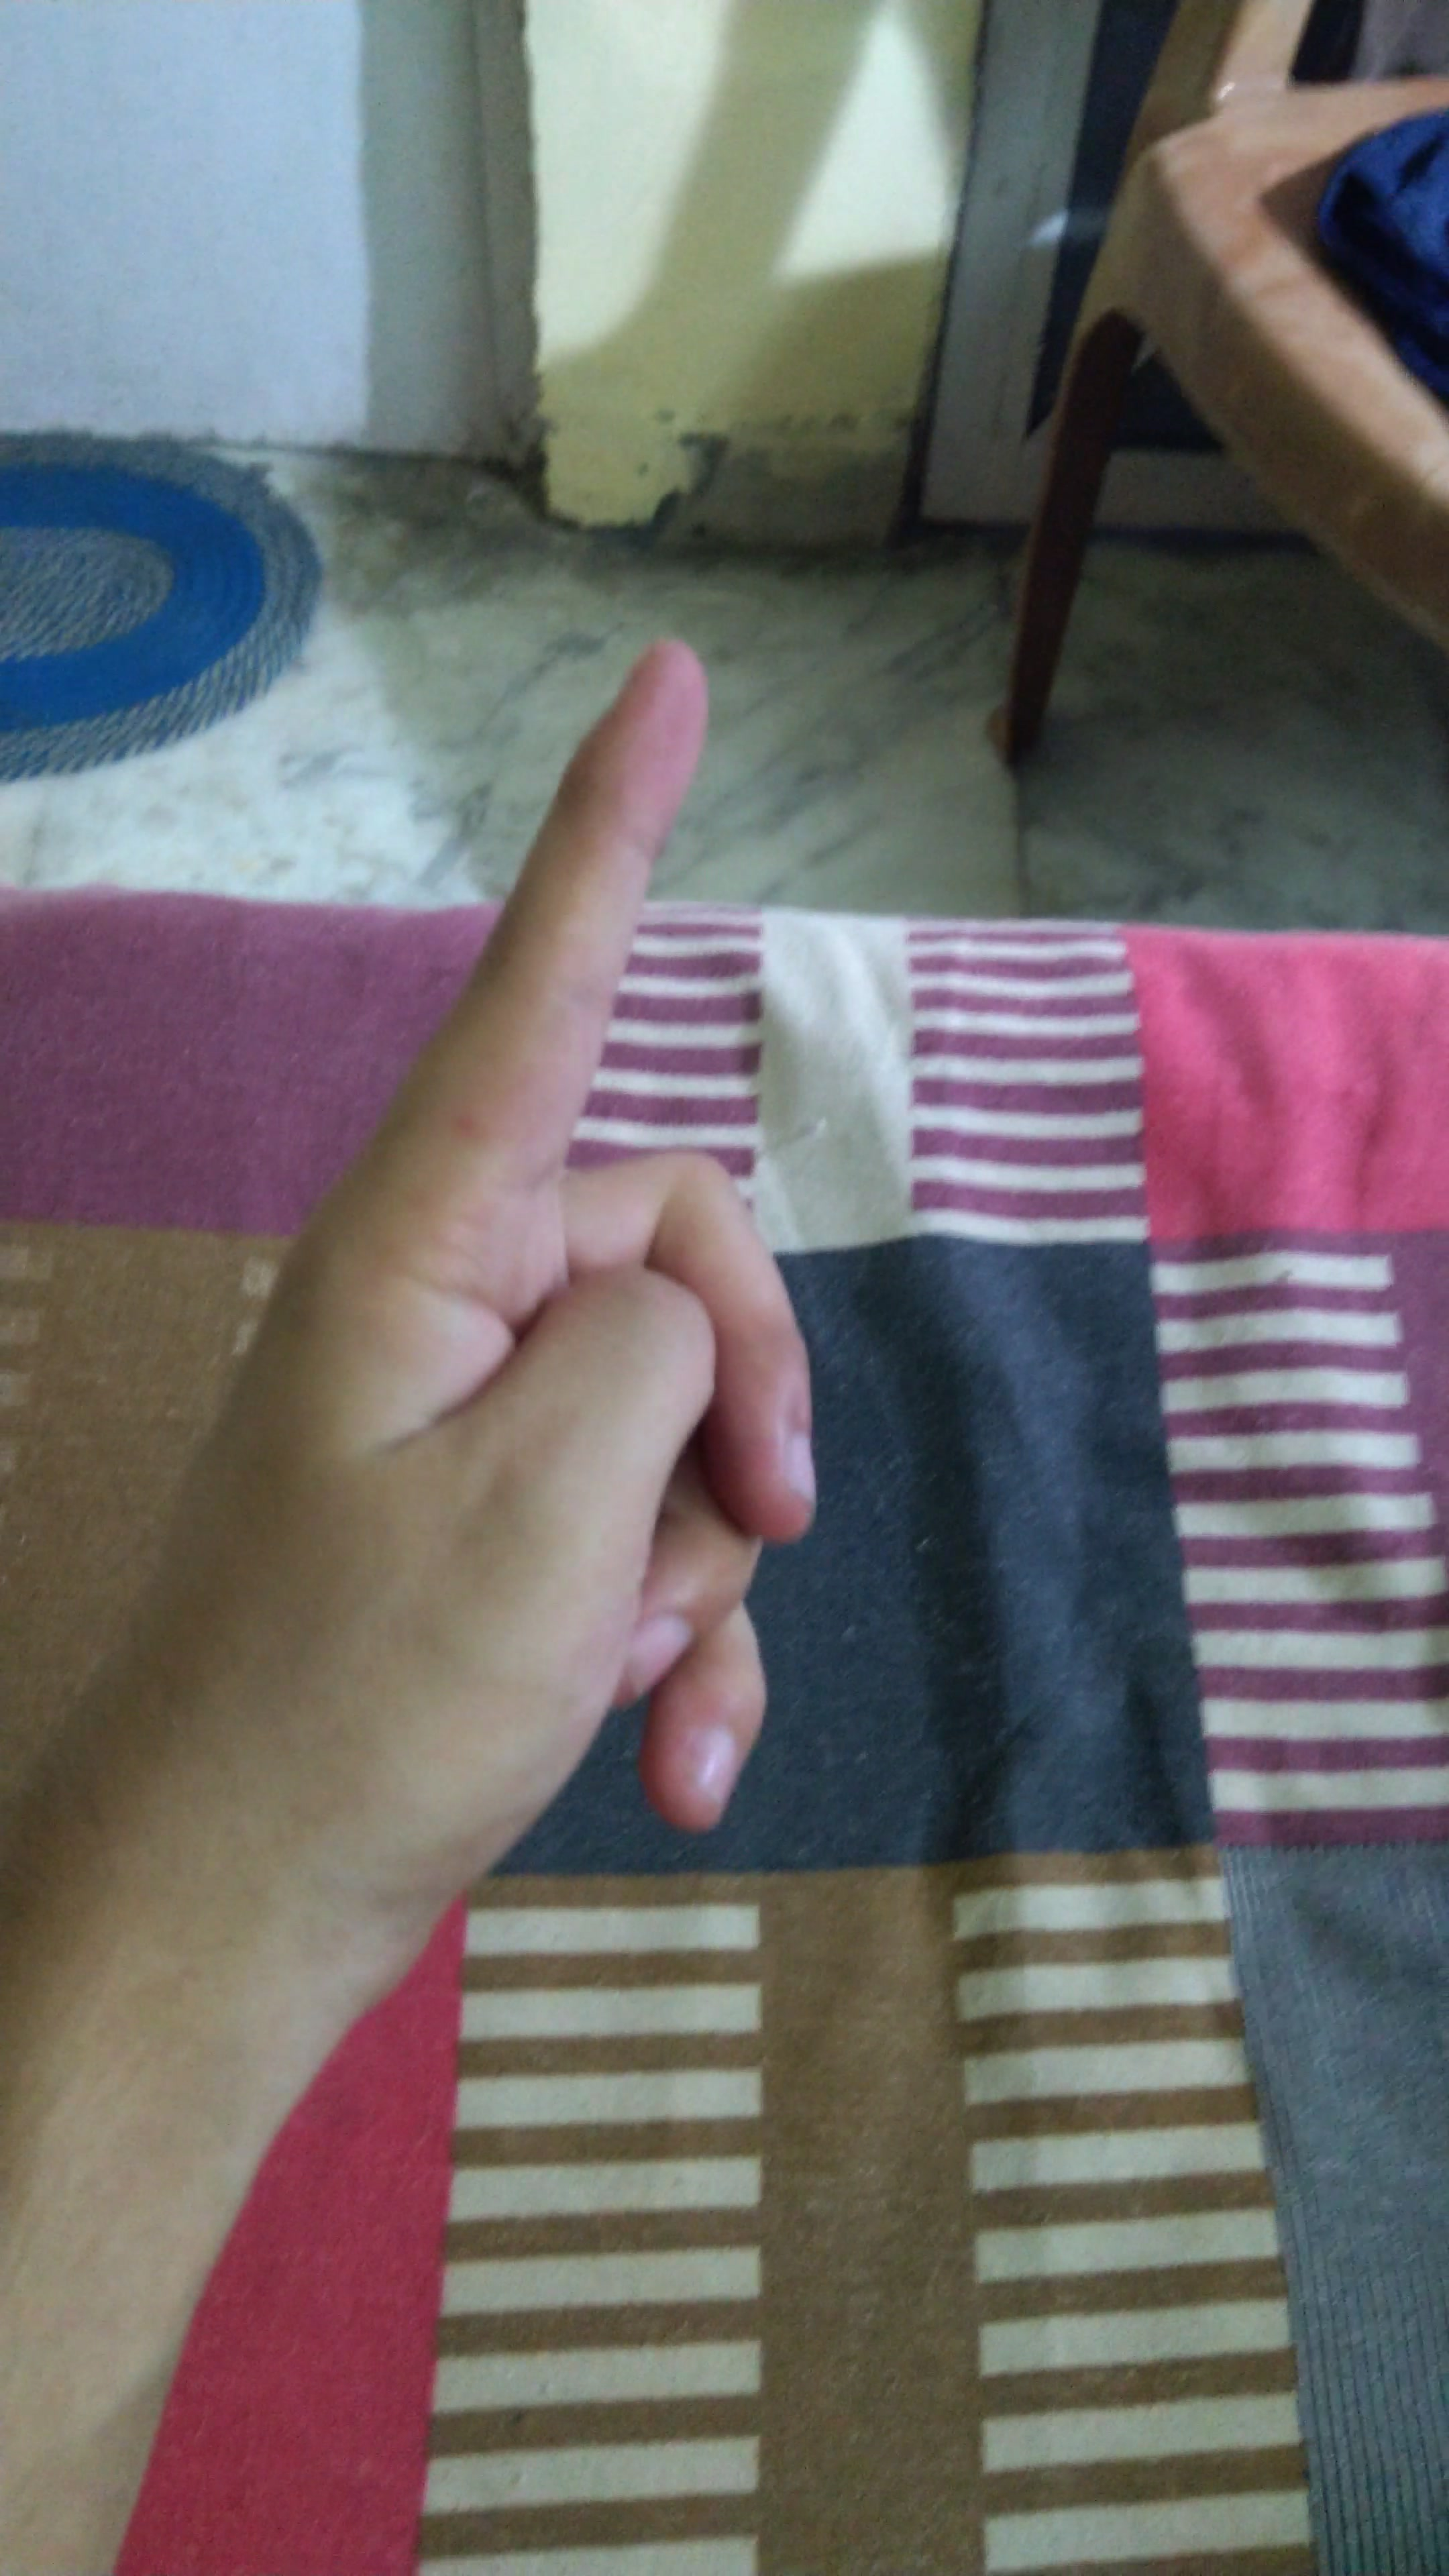hand: (138, 570, 918, 2010)
